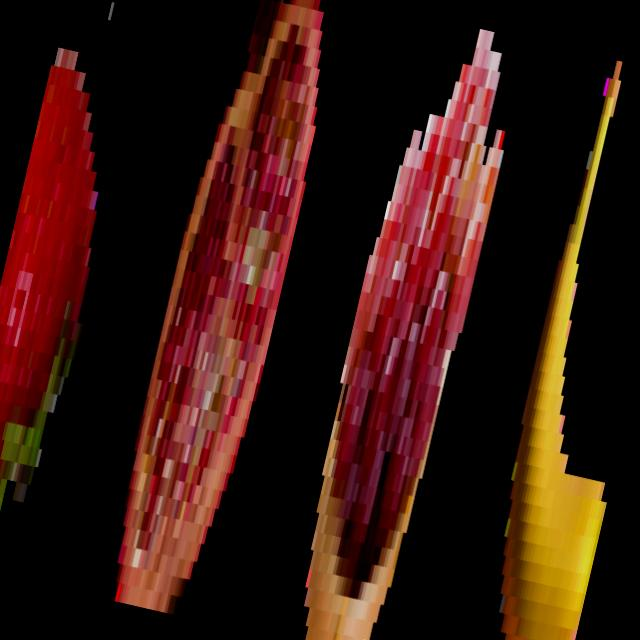bananas: (452, 55, 640, 640)
grape: (277, 15, 534, 640)
pomegranate: (93, 0, 354, 623)
strawberry: (0, 0, 174, 581)
